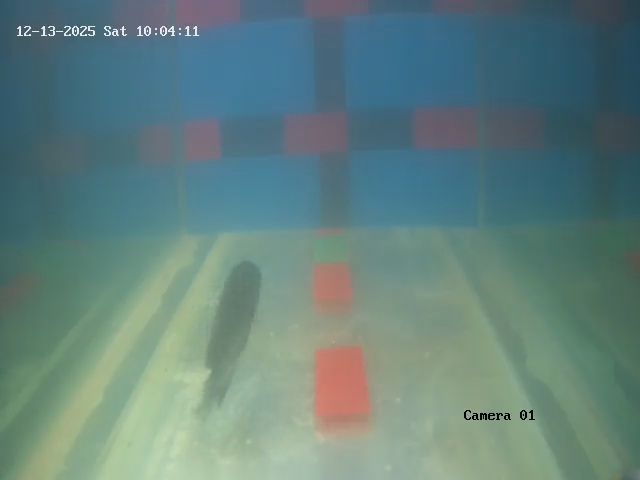fish: (205, 258, 265, 376)
